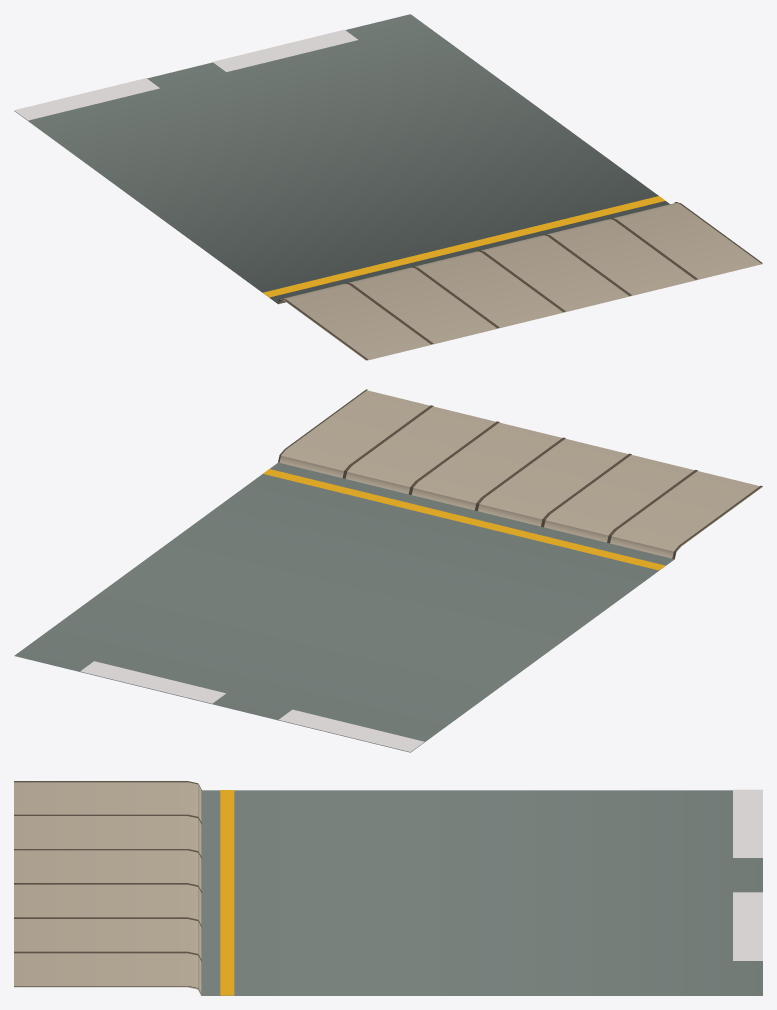
File: Road01.fbx
The picture shows the model from 3 angles, top to bottom: view 1: azimuth 30°, elevation 25°; view 2: azimuth 150°, elevation 25°; view 3: azimuth 270°, elevation 25°; orthographic projection. The views are drawn at different scales.
Visible parts, largest first — view 1: Road01; view 2: Road01; view 3: Road01.
Part boxes in pixels (x1=…): Road01: x1=14, y1=14, x2=762, y2=360; Road01: x1=14, y1=389, x2=762, y2=752; Road01: x1=14, y1=781, x2=762, y2=995.
Bounding box in the file's own units: 1300 × 27.65 × 2000.
